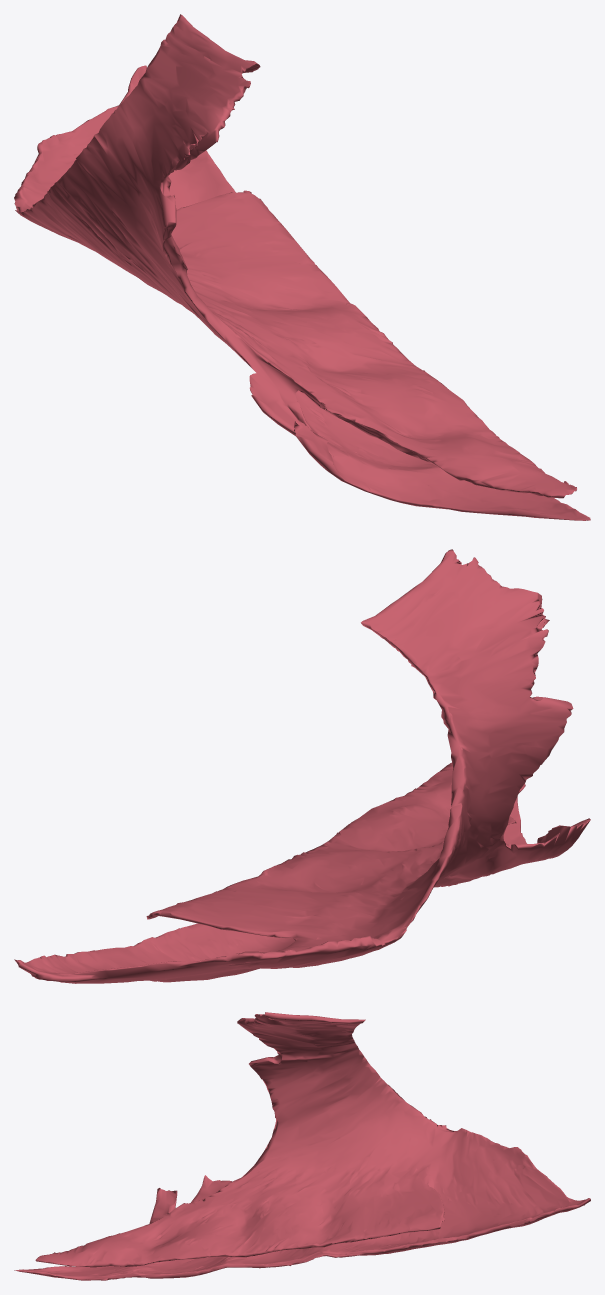
The picture shows the model from 3 angles, top to bottom: view 1: azimuth 30°, elevation 25°; view 2: azimuth 150°, elevation 25°; view 3: azimuth 270°, elevation 25°; orthographic projection. The views are drawn at different scales.
Visible parts, largest first — view 1: 右侧腹内斜肌; view 2: 右侧腹内斜肌; view 3: 右侧腹内斜肌.
Part boxes in pixels (bbox=[...]): 右侧腹内斜肌: bbox=[14, 14, 590, 520]; 右侧腹内斜肌: bbox=[14, 549, 590, 983]; 右侧腹内斜肌: bbox=[14, 1012, 590, 1280].
Size of the model in its own units: 0.1832 by 0.2584 by 0.5766.
